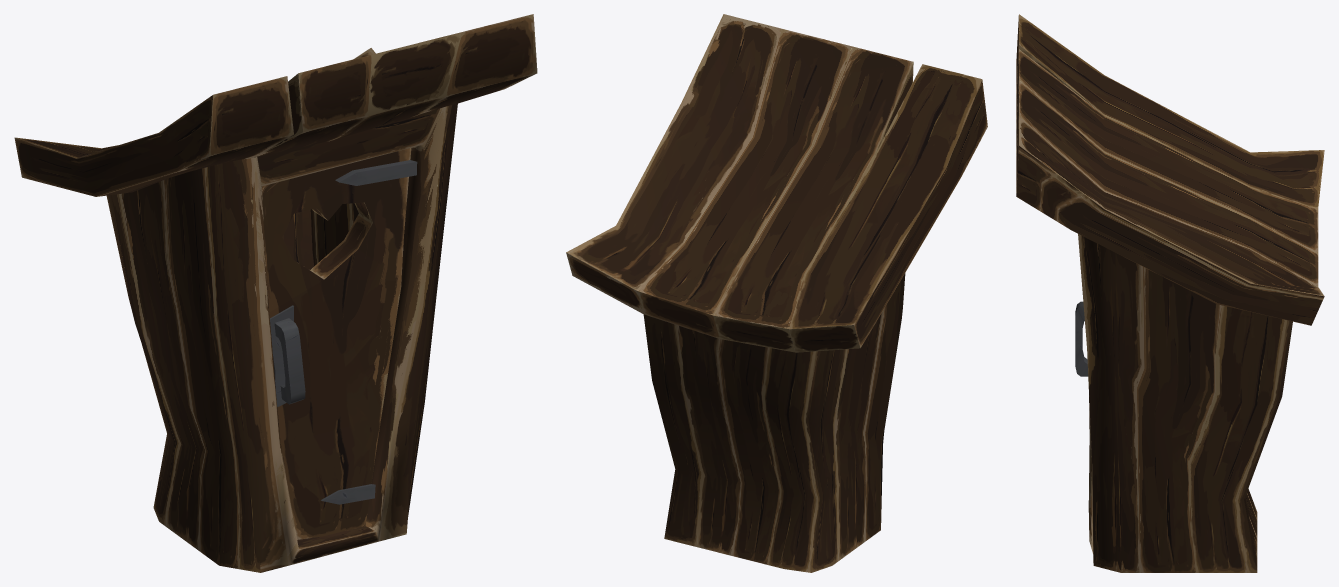
File: SM_PROP_outhouse.fbx
3 views of the same model, side by side, from view 1: azimuth 30°, elevation 25°; view 2: azimuth 150°, elevation 25°; view 3: azimuth 270°, elevation 25° (orthographic). The views are drawn at different scales.
Parts seen in each view (by area): view 1: SM_PROP_outhouse, SM_PROP_outhouse_door; view 2: SM_PROP_outhouse; view 3: SM_PROP_outhouse, SM_PROP_outhouse_door.
Boxes of the visible parts, x1=… form: SM_PROP_outhouse: x1=14, y1=14, x2=537, y2=572; SM_PROP_outhouse_door: x1=262, y1=148, x2=417, y2=539; SM_PROP_outhouse: x1=566, y1=14, x2=987, y2=572; SM_PROP_outhouse: x1=1016, y1=14, x2=1324, y2=572; SM_PROP_outhouse_door: x1=1075, y1=301, x2=1088, y2=376.
Bounding box in the file's own units: 191 × 272 × 167.
